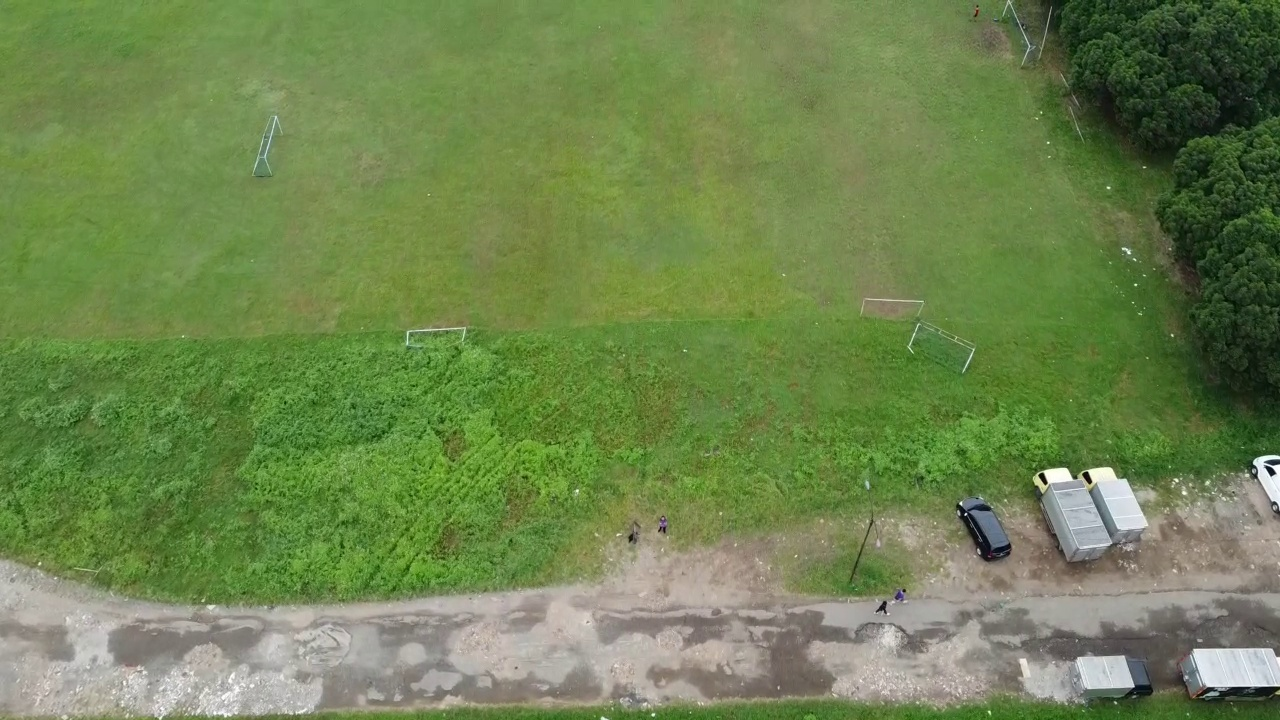mobil: (954, 491, 1015, 563), (1249, 448, 1280, 530)
